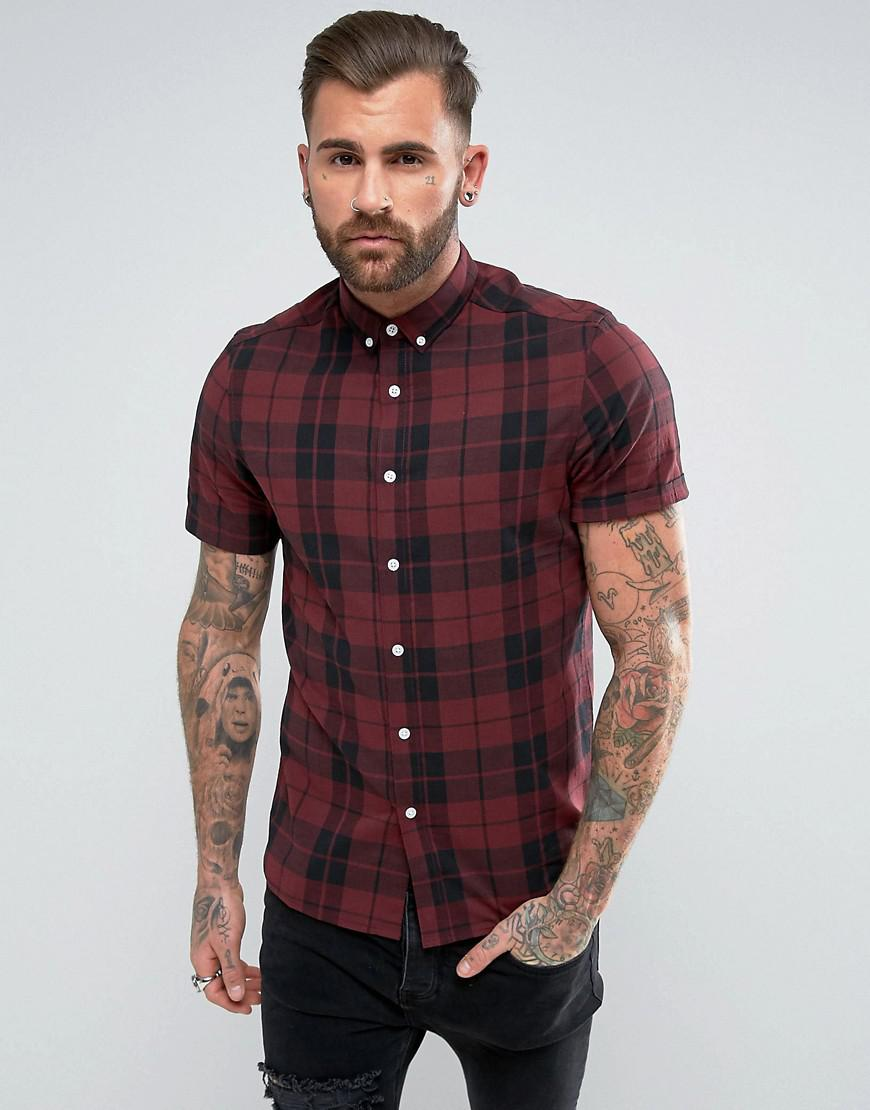teeshirt: (171, 256, 693, 981)
